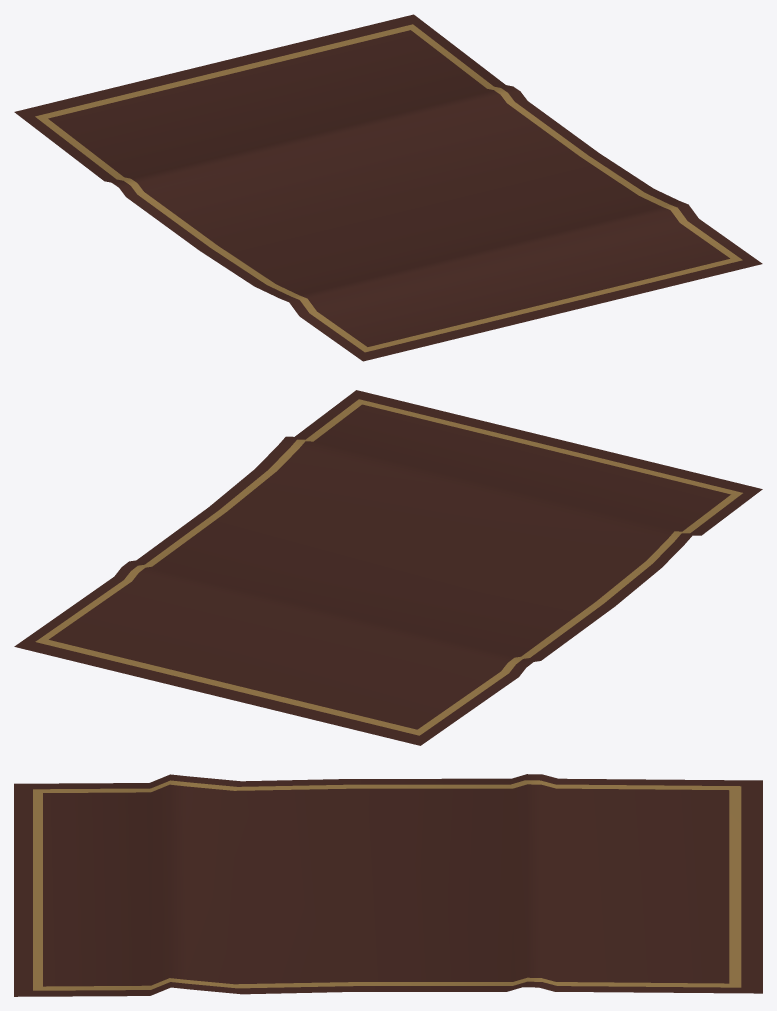
File: rug.glb
3 views of the same model, one above another, from view 1: azimuth 30°, elevation 25°; view 2: azimuth 150°, elevation 25°; view 3: azimuth 270°, elevation 25° (orthographic). The views are drawn at different scales.
Parts seen in each view (by area): view 1: rug; view 2: rug; view 3: rug.
Boxes of the visible parts, x1,y1,x2,y2 form: rug: [14, 14, 762, 361]; rug: [14, 390, 762, 745]; rug: [14, 774, 762, 996].
Bounding box in the file's own units: 1.65 × 0.0284 × 2.4.
